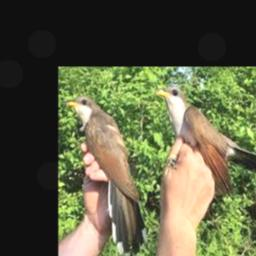Cuckoo: (66, 95, 145, 255), (156, 86, 256, 198)
